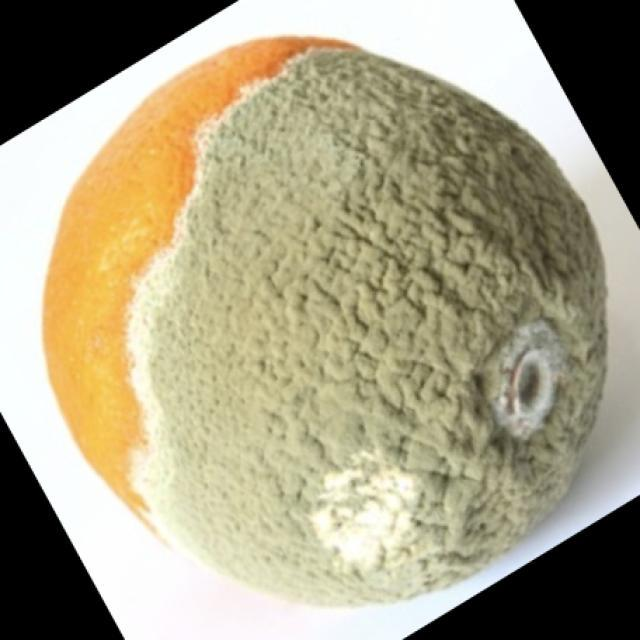sangat-busuk: (43, 36, 606, 604)
